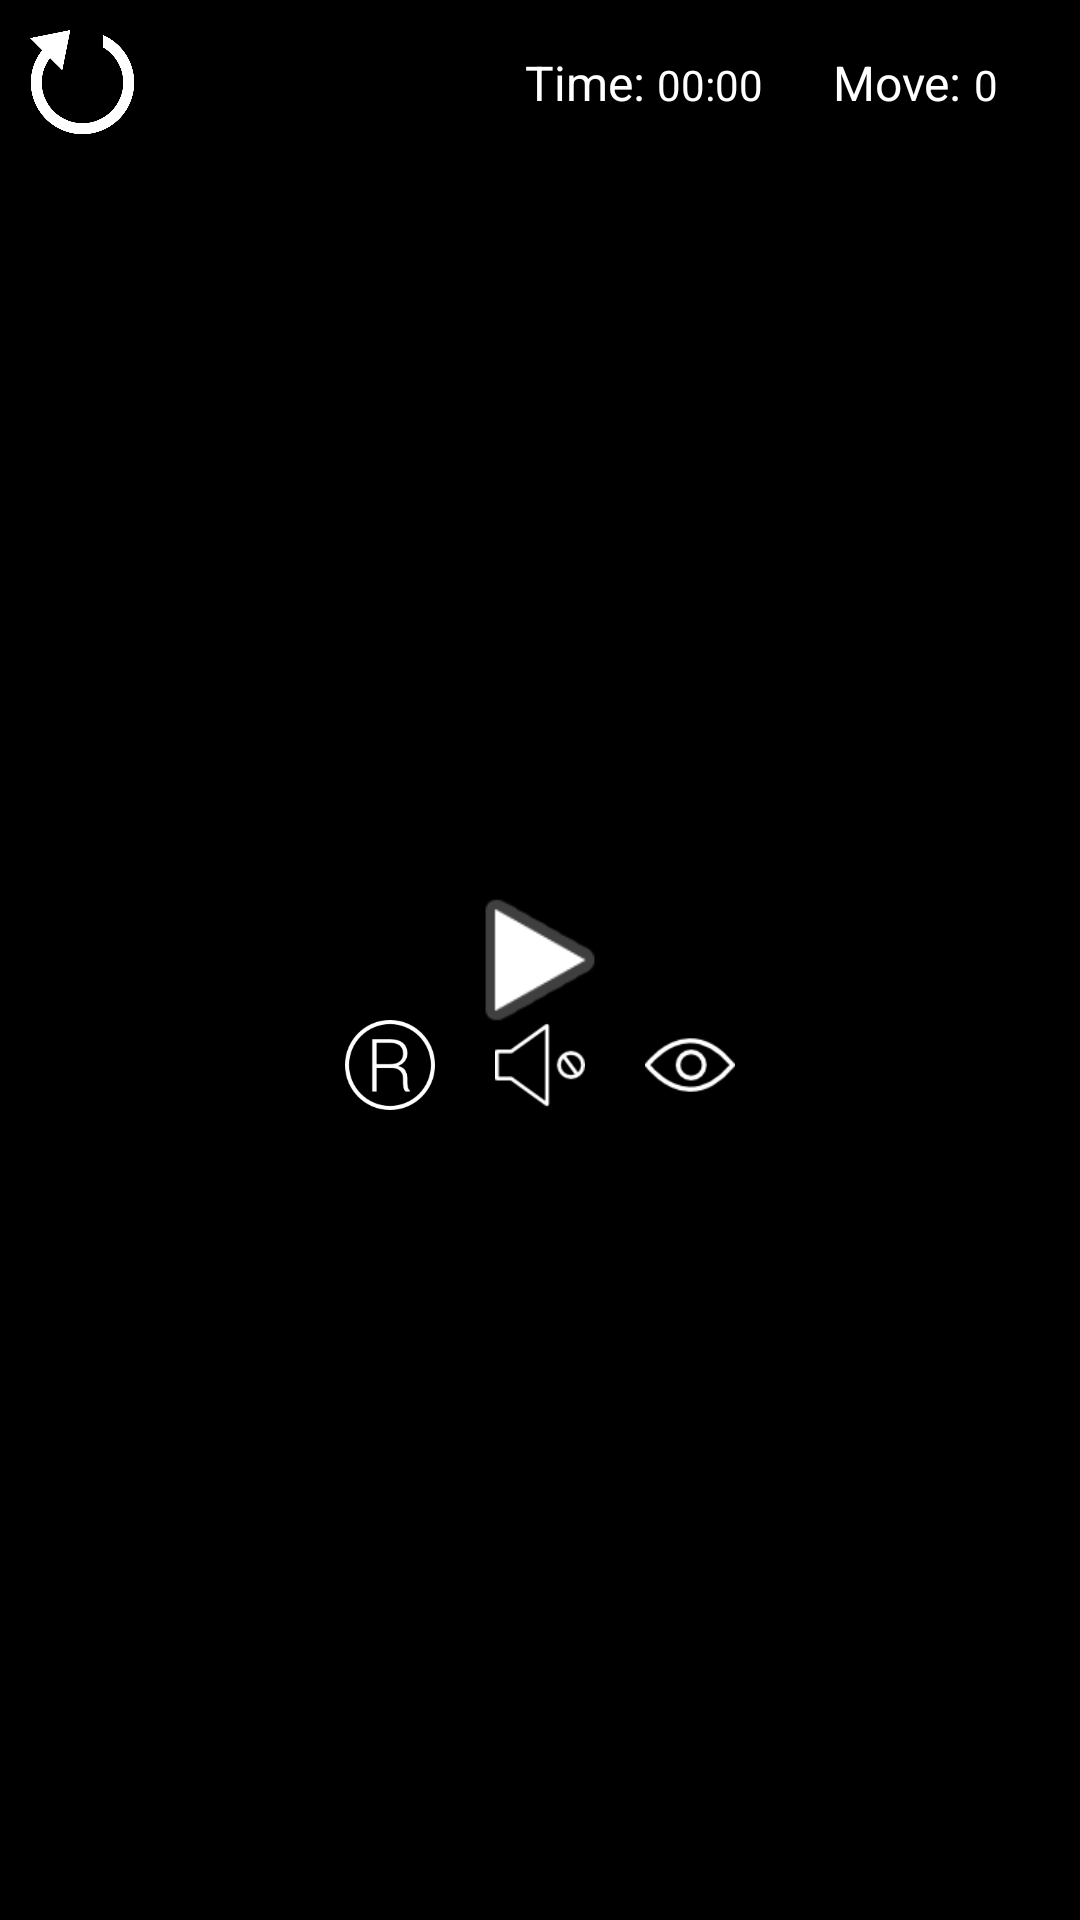

Icon click points for this 1080px×1920px phone screenshot, format [x,y]:
eye: [690,1065]
play: [540,960]
restart: [82,82]
volume off: [540,1065]
